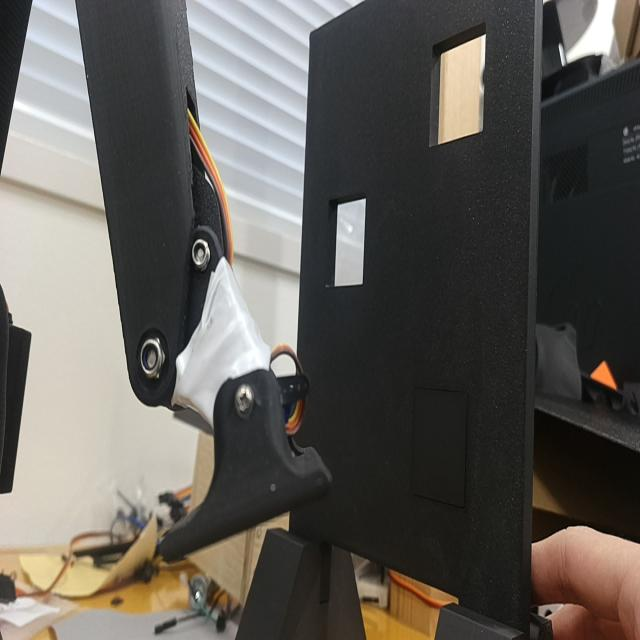Obstacle: (429, 27, 486, 150), (327, 192, 368, 283)
Wall: (290, 0, 542, 636)
